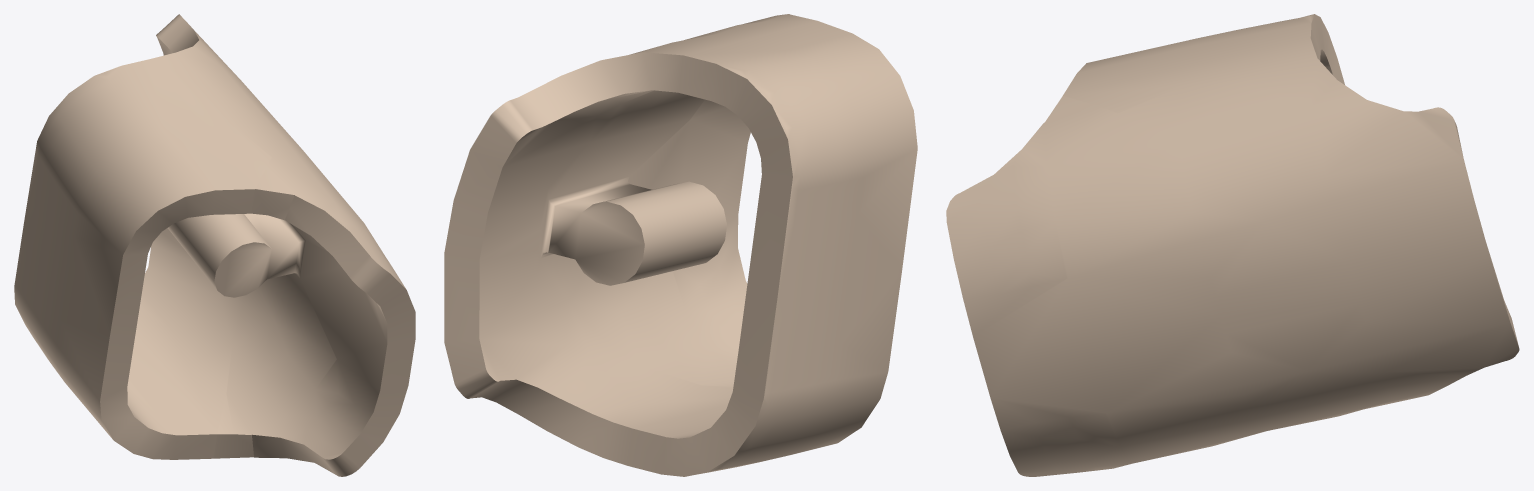
The model's file is l_hand_I_L_0.obj.
The picture shows the model from 3 angles, left to right: view 1: azimuth 30°, elevation 25°; view 2: azimuth 150°, elevation 25°; view 3: azimuth 270°, elevation 25°; orthographic projection. The views are drawn at different scales.
Size of the model in its own units: 17.49 by 24.87 by 31.87.
